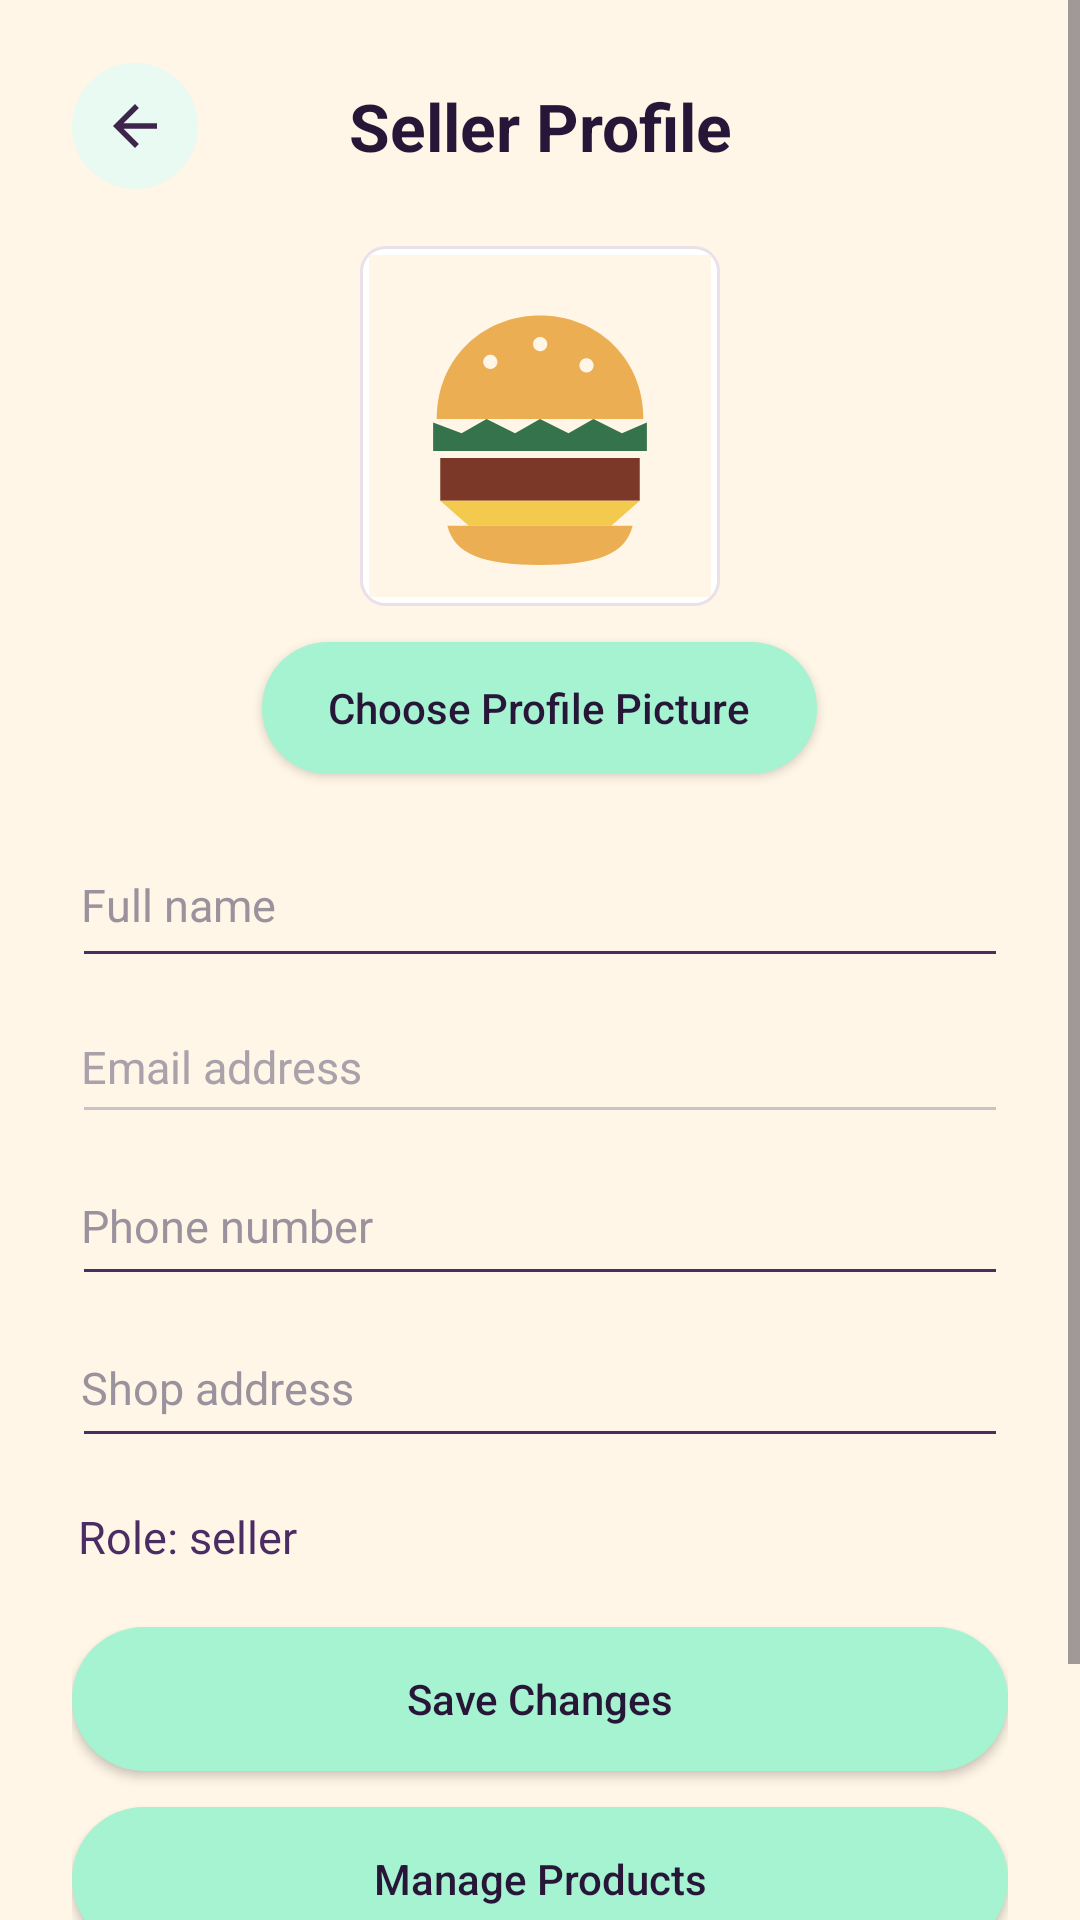

Named icons in this screenshot (1080px x 1920px) and their bounding boxes, (x1=x1, y1=y1, x2=x2, y2=y2):
Back to seller home: (x1=72, y1=63, x2=198, y2=189)
